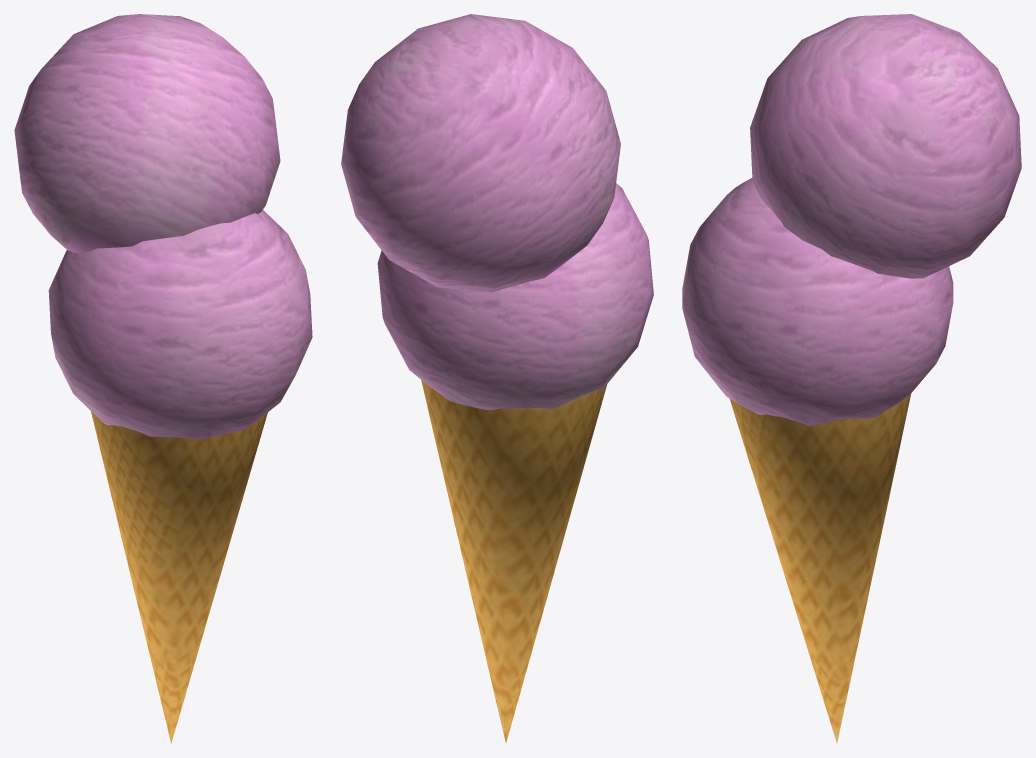
Rendered from icecream2.glb.
The picture shows the model from 3 angles, left to right: view 1: azimuth 30°, elevation 25°; view 2: azimuth 150°, elevation 25°; view 3: azimuth 270°, elevation 25°; orthographic projection. The views are drawn at different scales.
Parts seen in each view (by area): view 1: IceCream2; view 2: IceCream2; view 3: IceCream2.
Part boxes in pixels (<box>): IceCream2: <box>14,14,312,743</box>; IceCream2: <box>341,14,653,742</box>; IceCream2: <box>682,14,1021,743</box>.
Size of the model in its own units: 0.5657 by 1.64 by 0.7006.
1 material, 1 textured.
